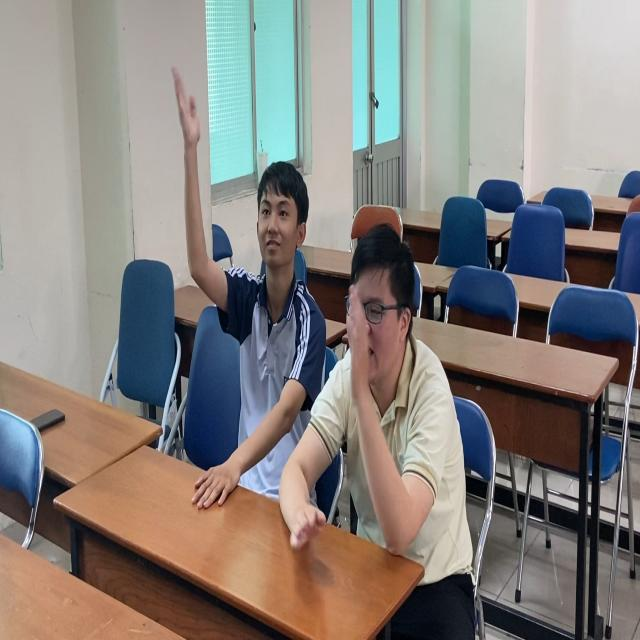raise_hand: (168, 61, 337, 445)
